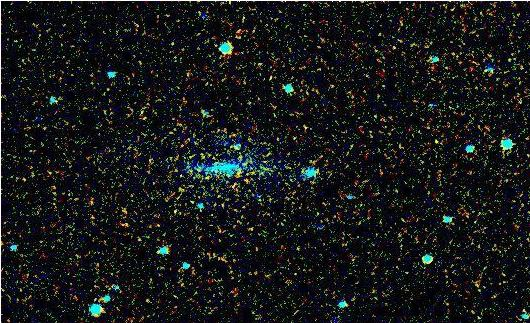star: (134, 285, 164, 315)
